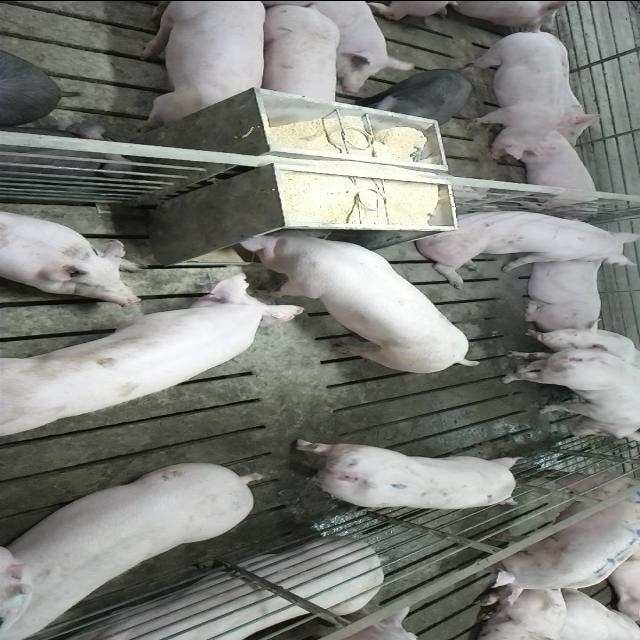Feeding: (6, 269, 320, 443), (231, 219, 478, 369)
Sitting: (413, 203, 636, 285), (495, 323, 639, 443)
Standing: (5, 456, 265, 634), (457, 473, 640, 608), (285, 439, 521, 513), (130, 2, 268, 128), (458, 25, 562, 160), (259, 4, 340, 112), (368, 67, 476, 123)
Sternal_lying: (51, 539, 405, 640), (0, 203, 145, 303), (508, 132, 605, 210), (519, 250, 605, 328)
